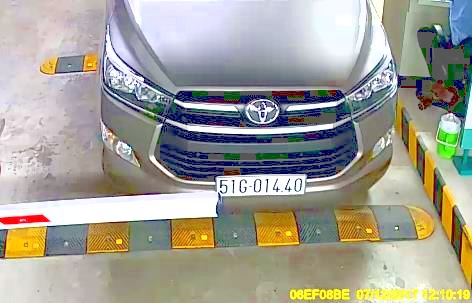plate: (212, 171, 308, 198)
